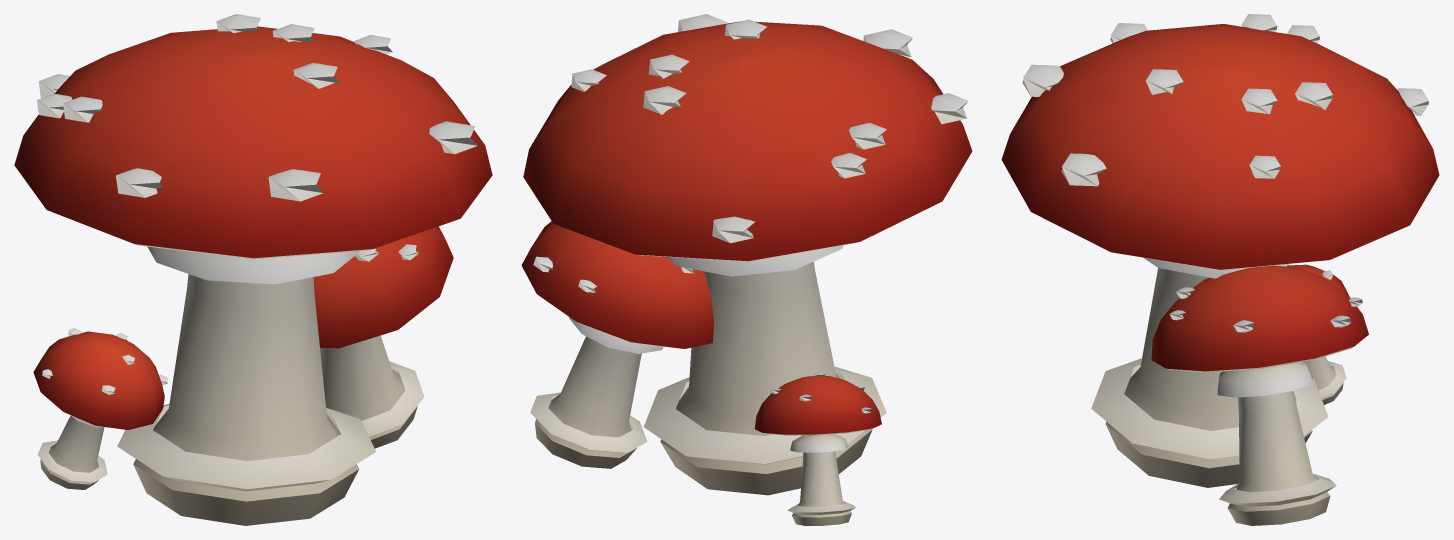
Rendered from toadstool.glb.
3 views of the same model, side by side, from view 1: azimuth 30°, elevation 25°; view 2: azimuth 150°, elevation 25°; view 3: azimuth 270°, elevation 25° (orthographic). The views are drawn at different scales.
Visible parts, largest first — view 1: toadstool; view 2: toadstool; view 3: toadstool.
Boxes of the visible parts, x1=… form: toadstool: x1=14, y1=14, x2=492, y2=525; toadstool: x1=521, y1=14, x2=972, y2=525; toadstool: x1=1001, y1=14, x2=1439, y2=525.
Bounding box in the file's own units: 1.2 × 1.22 × 1.2.
